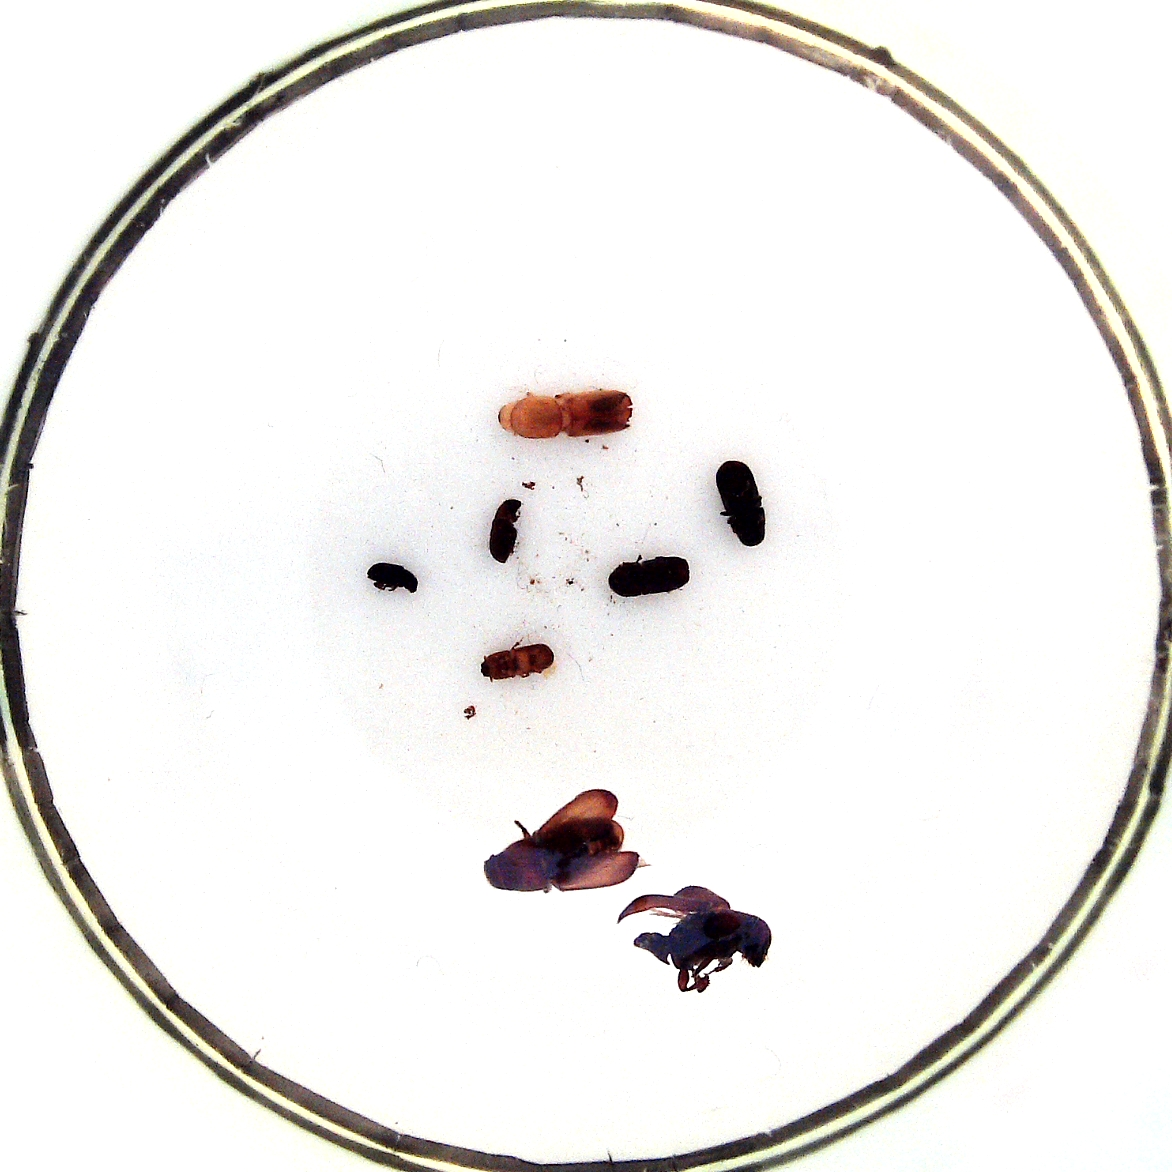Boerner: (497, 390, 634, 438)
Leconte: (485, 814, 624, 893), (670, 909, 772, 973)
acuminatus: (489, 498, 522, 563), (368, 563, 419, 594)
armandi: (716, 459, 766, 547)
coleoptera: (482, 645, 554, 679)
linnaeus: (607, 557, 691, 598)
